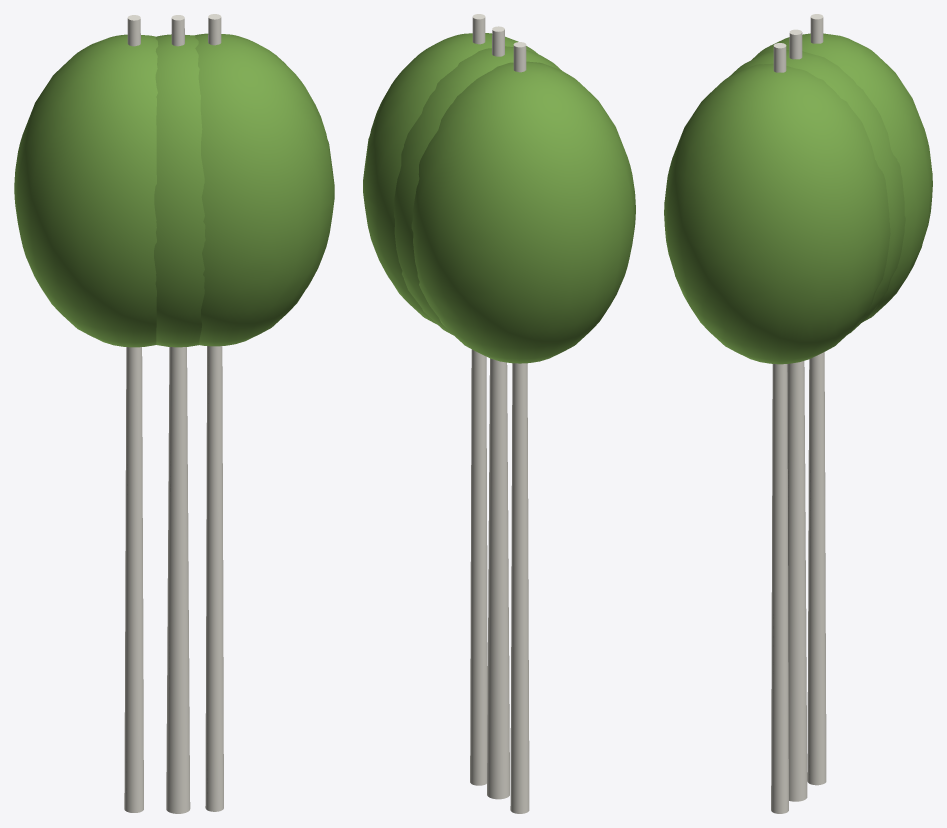
File: e06-white-birch.glb
The picture shows the model from 3 angles, left to right: view 1: azimuth 30°, elevation 25°; view 2: azimuth 150°, elevation 25°; view 3: azimuth 270°, elevation 25°; orthographic projection. The views are drawn at different scales.
Parts seen in each view (by area): view 1: part3, part5, part1, part0, part2, part4; view 2: part3, part5, part0, part2, part4, part1; view 3: part5, part3, part0, part2, part4, part1.
Boxes of the visible parts, bbox=[...] form: part3: bbox=[14, 34, 158, 347]; part5: bbox=[195, 33, 334, 346]; part1: bbox=[154, 34, 205, 347]; part0: bbox=[166, 15, 190, 813]; part2: bbox=[124, 15, 143, 812]; part4: bbox=[205, 14, 223, 811]; part3: bbox=[411, 61, 635, 363]; part5: bbox=[363, 33, 537, 324]; part0: bbox=[487, 26, 509, 799]; part2: bbox=[510, 42, 529, 813]; part4: bbox=[470, 14, 487, 785]; part1: bbox=[393, 46, 561, 335]; part5: bbox=[664, 63, 890, 364]; part3: bbox=[752, 33, 932, 321]; part0: bbox=[787, 29, 807, 801]; part2: bbox=[807, 14, 826, 785]; part4: bbox=[771, 43, 788, 813]; part1: bbox=[729, 50, 905, 333].
Size of the model in its own units: 5699 by 16000 by 5097.
